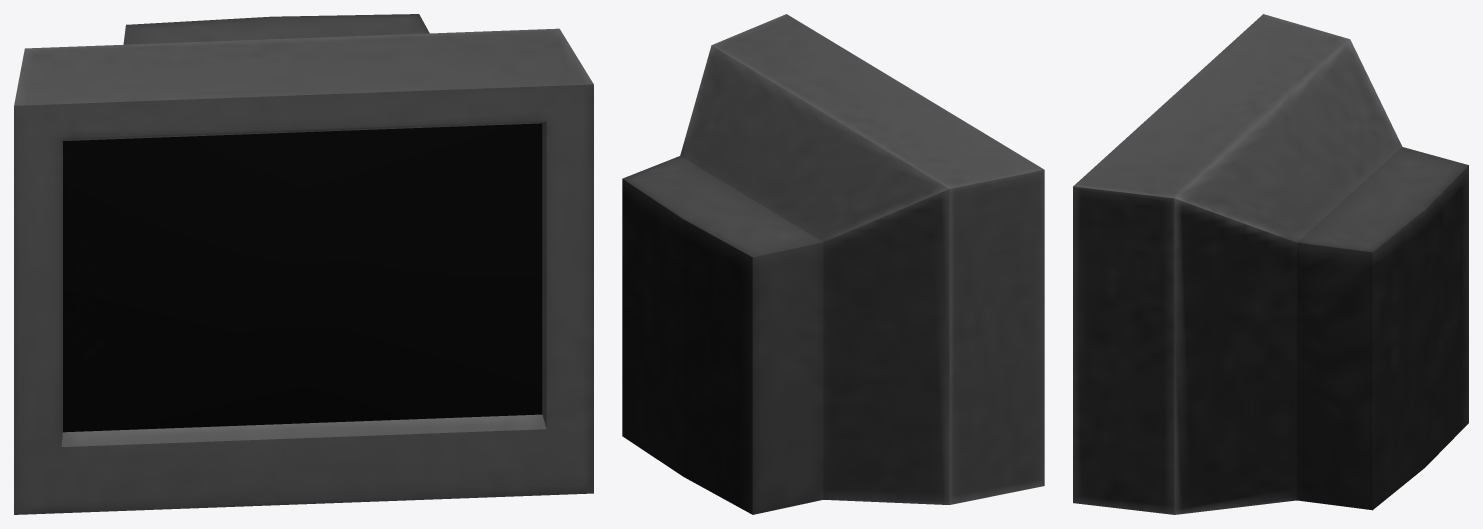
3 renders of one model, left to right at view 1: azimuth 30°, elevation 25°; view 2: azimuth 150°, elevation 25°; view 3: azimuth 270°, elevation 25°, orthographic. The views are drawn at different scales.
Parts seen in each view (by area): view 1: tv_off; view 2: tv_off; view 3: tv_off.
Part boxes in pixels (x1,y1,x2,y2): tv_off: [14, 14, 593, 514]; tv_off: [622, 14, 1044, 514]; tv_off: [1073, 14, 1468, 514].
Size of the model in its own units: 34.84 by 27.89 by 31.62.
